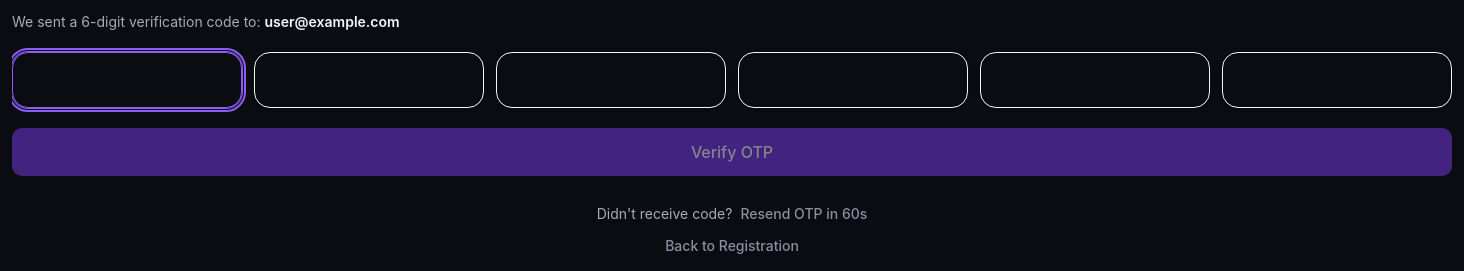
VerifyOtpForm › allows entering digits and disables submit button until 6 digits are typed
The width and height of the screenshot is (1464, 271).
Expected: the button "Verify OTP" is disabled, [12,128,1452,176]
Type "1" into the field named "Digit 1 of 6".
click(127, 80); type("1")  # box [12,52,242,108]
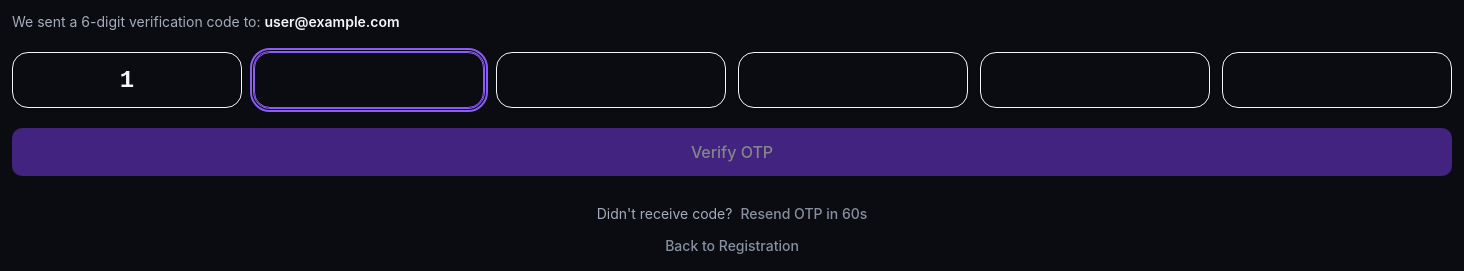
Type "2" into the field named "Digit 2 of 6".
click(369, 80); type("2")  # box [254,52,484,108]
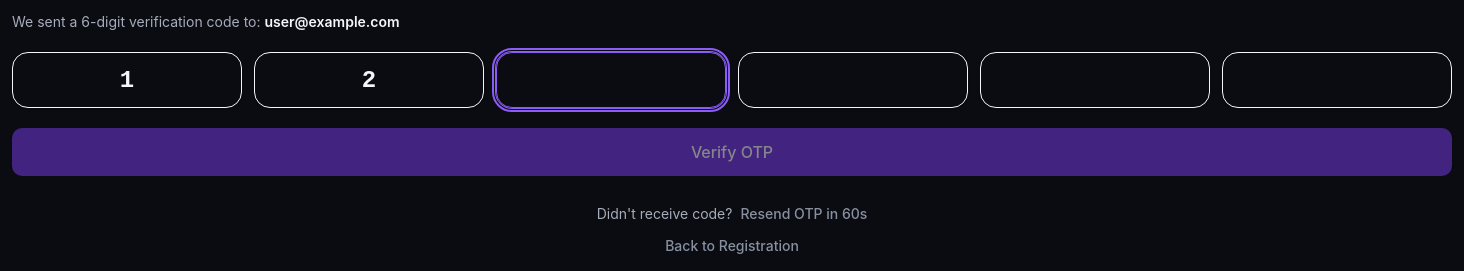
Type "3" into the field named "Digit 3 of 6".
click(611, 80); type("3")  # box [496,52,726,108]
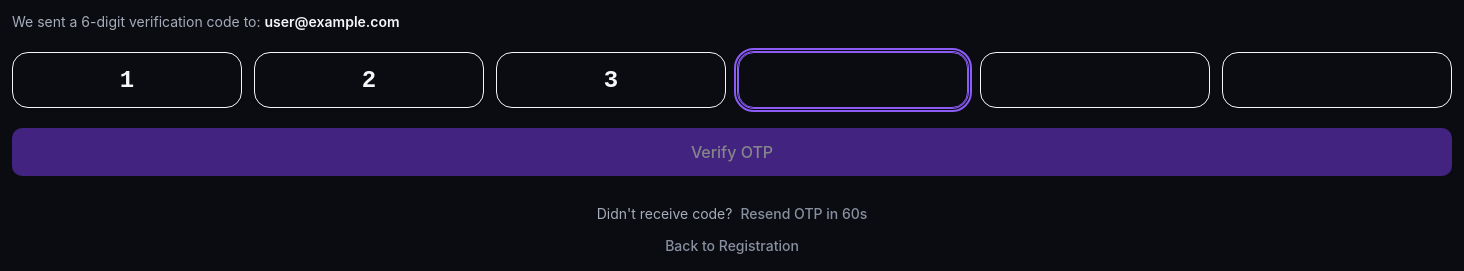
Type "4" into the field named "Digit 4 of 6".
click(853, 80); type("4")  # box [738,52,968,108]
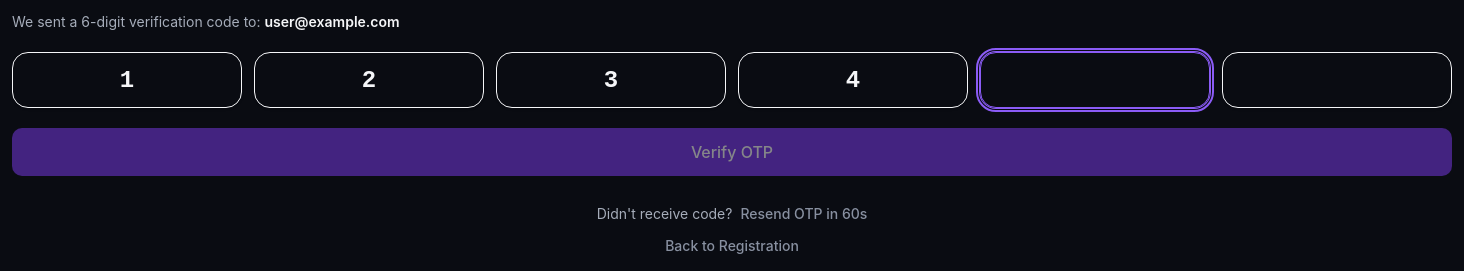
Type "5" into the field named "Digit 5 of 6".
click(1095, 80); type("5")  # box [980,52,1210,108]
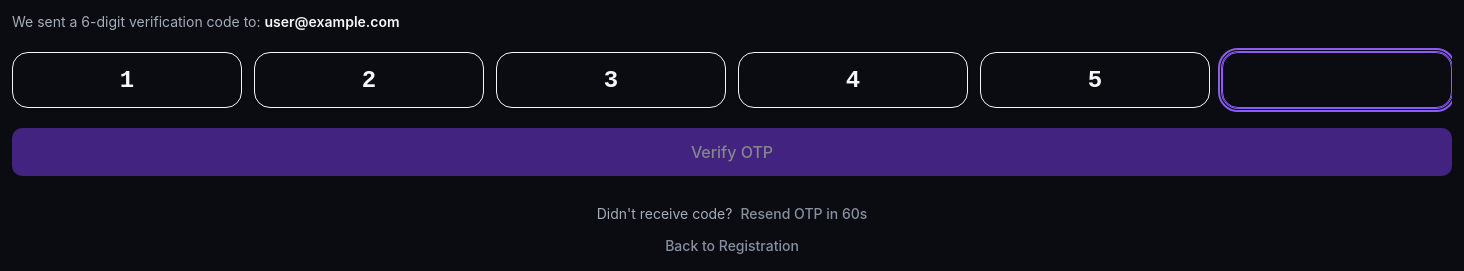
Expected: the button "Verify OTP" is disabled, [12,128,1452,176]
Type "6" into the field named "Digit 6 of 6".
click(1337, 80); type("6")  # box [1222,52,1452,108]
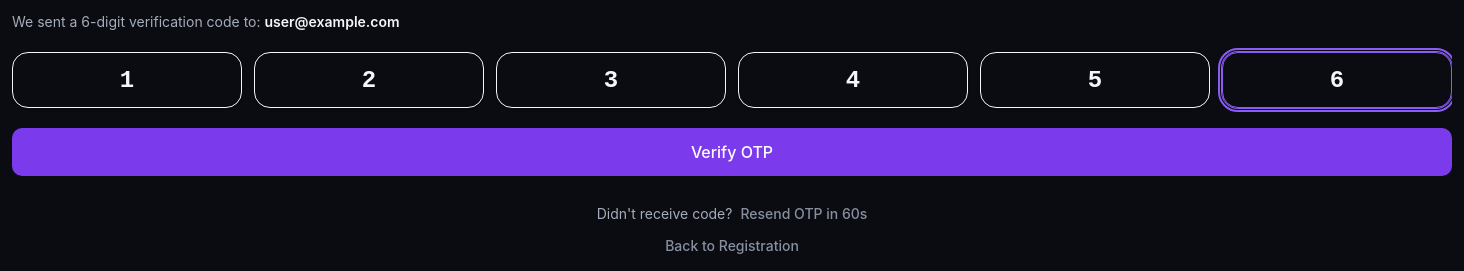
Now the button "Verify OTP" is enabled, box [12,128,1452,176]
